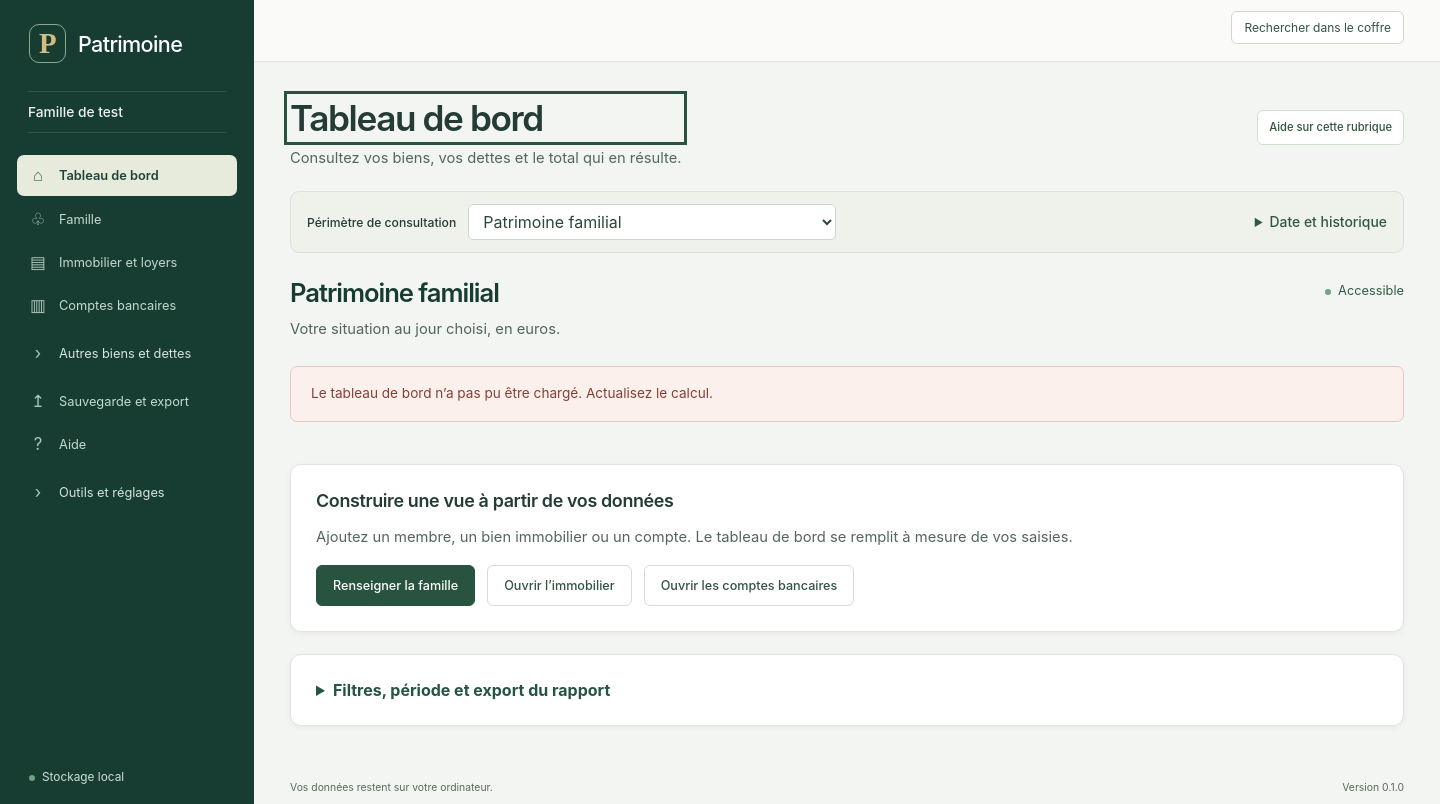
it: Paramètres locaux › enregistre les valeurs saisies avec la devise de consolidation toujours en EUR
The width and height of the screenshot is (1440, 804).
Expected: the text "Famille de test" is shown, left=28, top=104, right=123, bottom=120
Click the button "› Outils et réglages" at (127, 492), box left=17, top=472, right=237, bottom=512
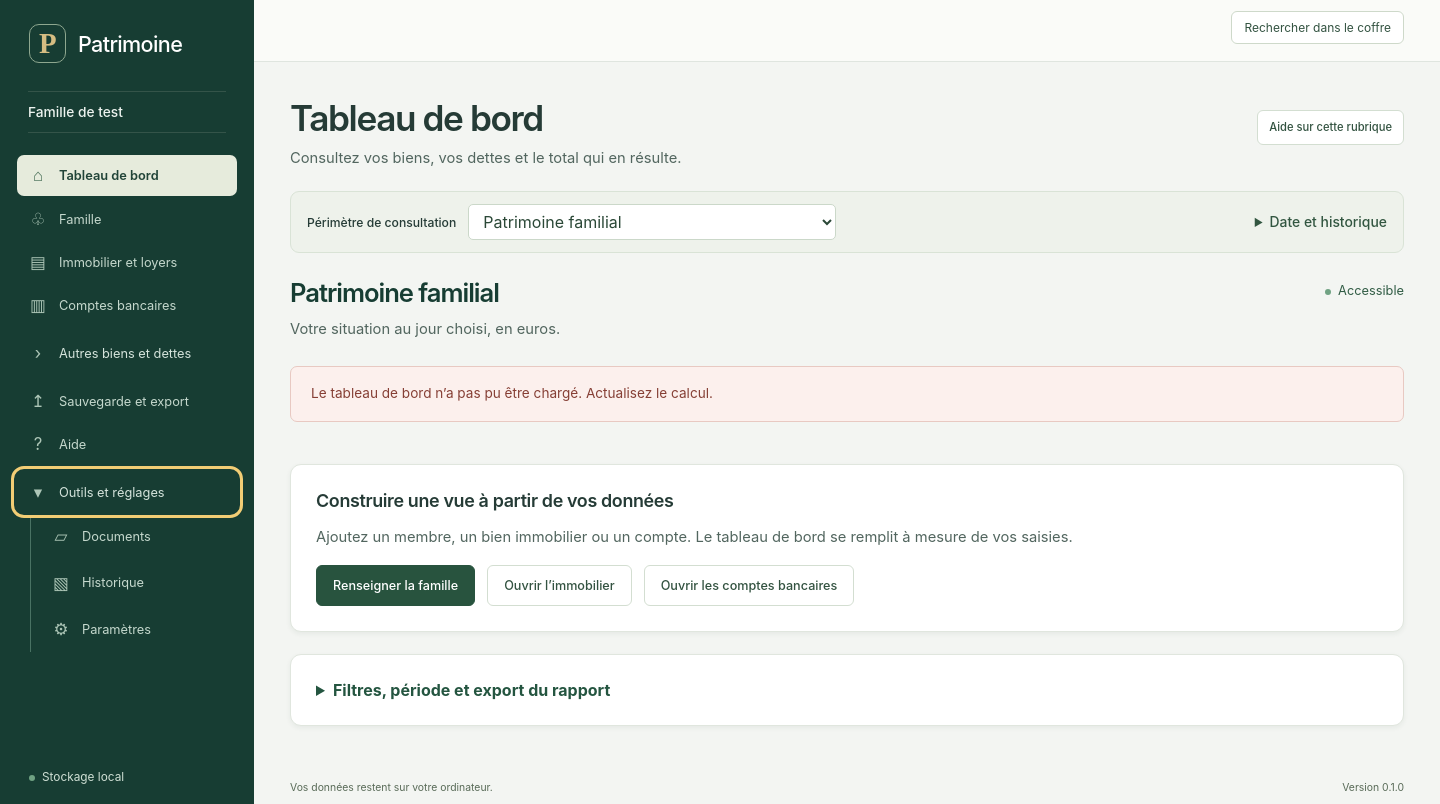
Click the button "⚙ Paramètres" at (138, 630), box left=40, top=608, right=237, bottom=652
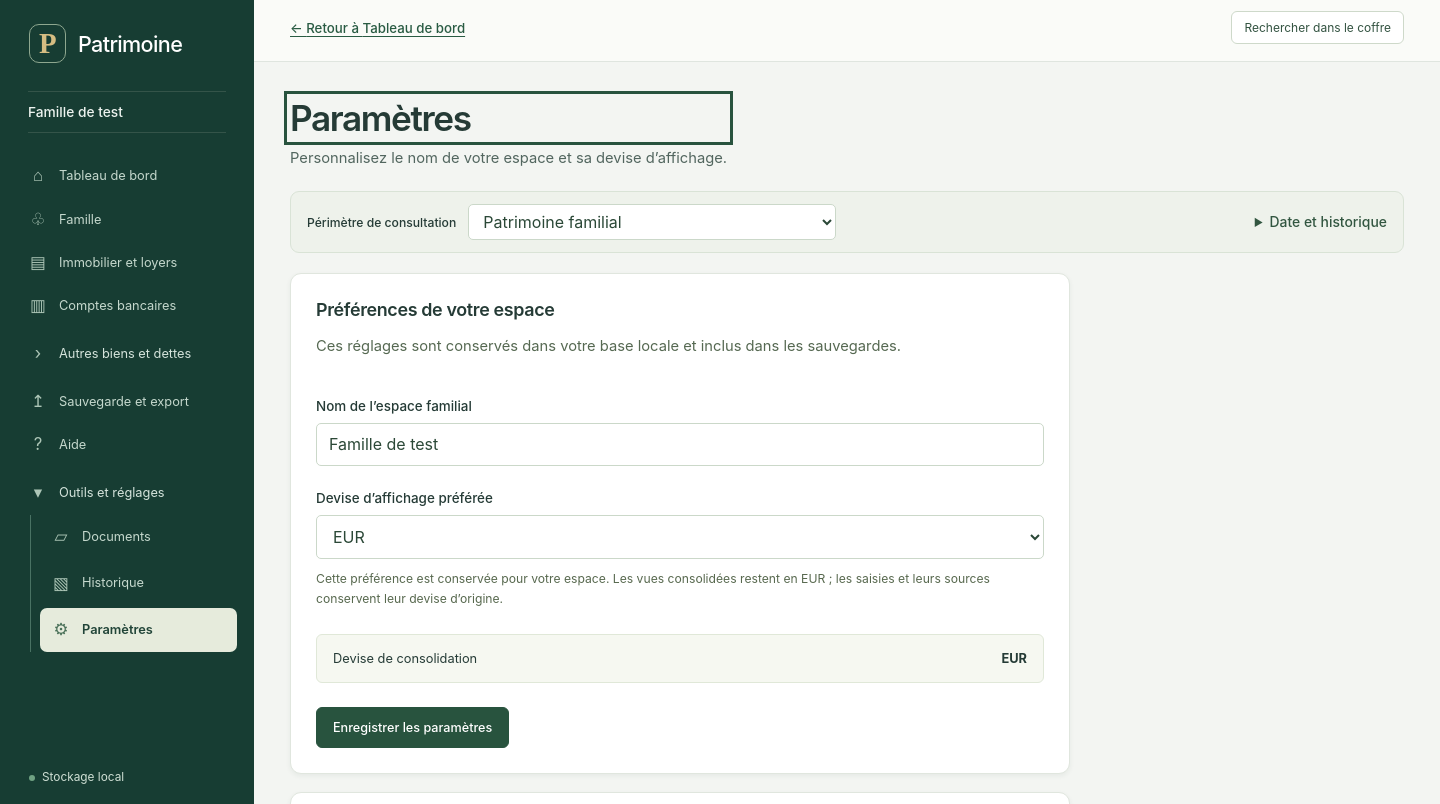
Replace the text in the field labelled "Nom de l’espace familial" with "  Notre espace  " at (680, 444), box left=316, top=423, right=1044, bottom=466
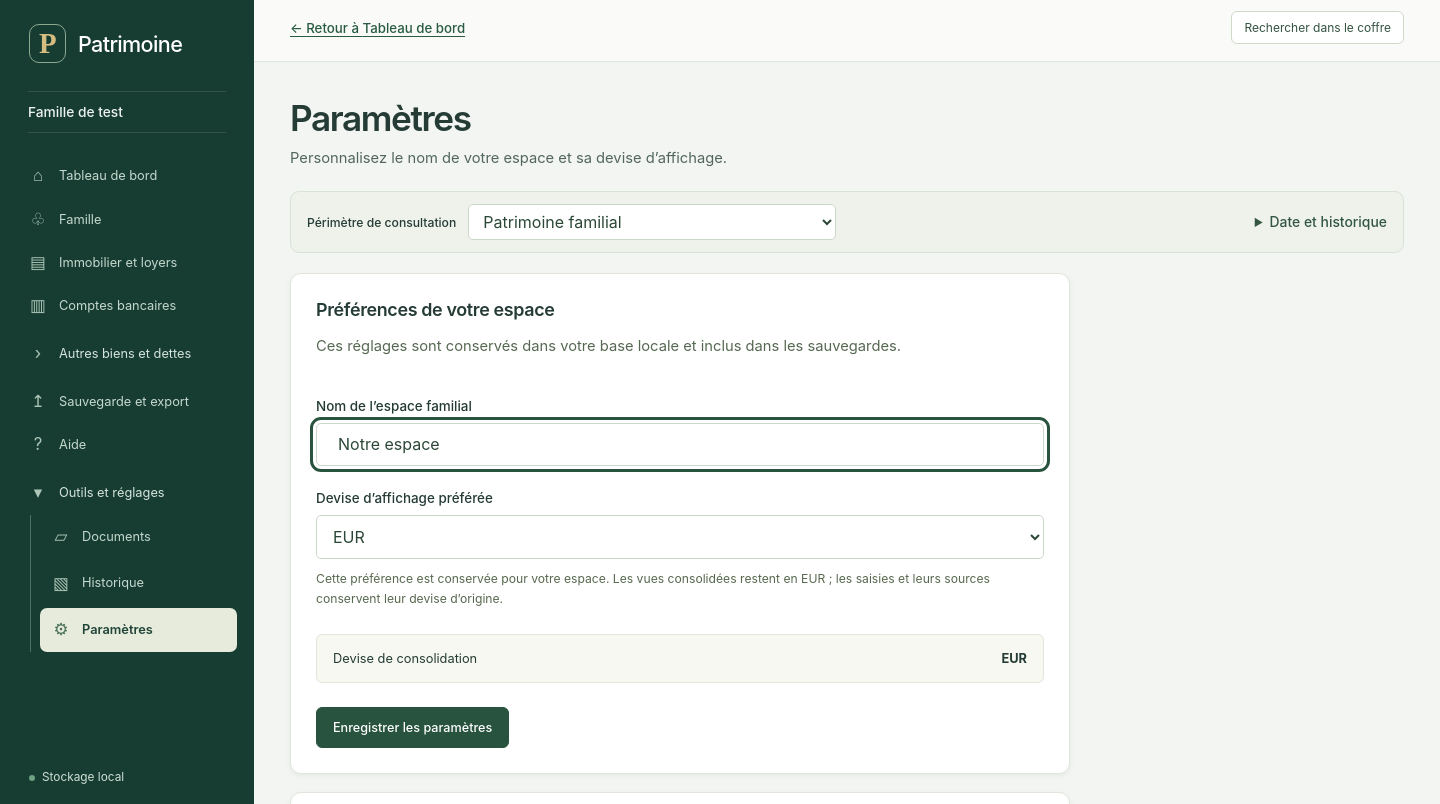
Select "TND" in the dropdown labelled "Devise d’affichage préférée" at (680, 537), box left=316, top=515, right=1044, bottom=559
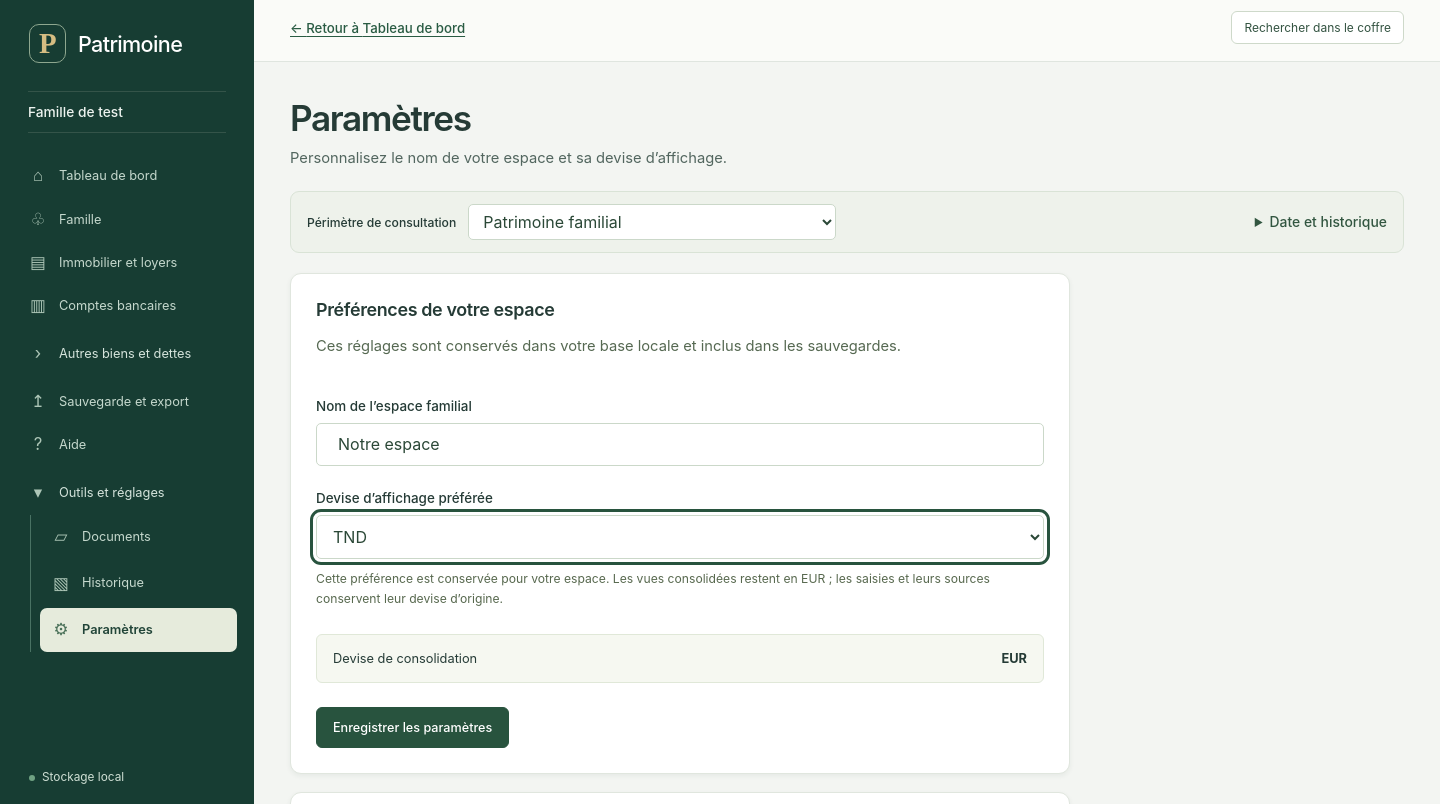
Click the button "Enregistrer les paramètres" at (413, 728), box left=316, top=707, right=509, bottom=748
(page scrolled)
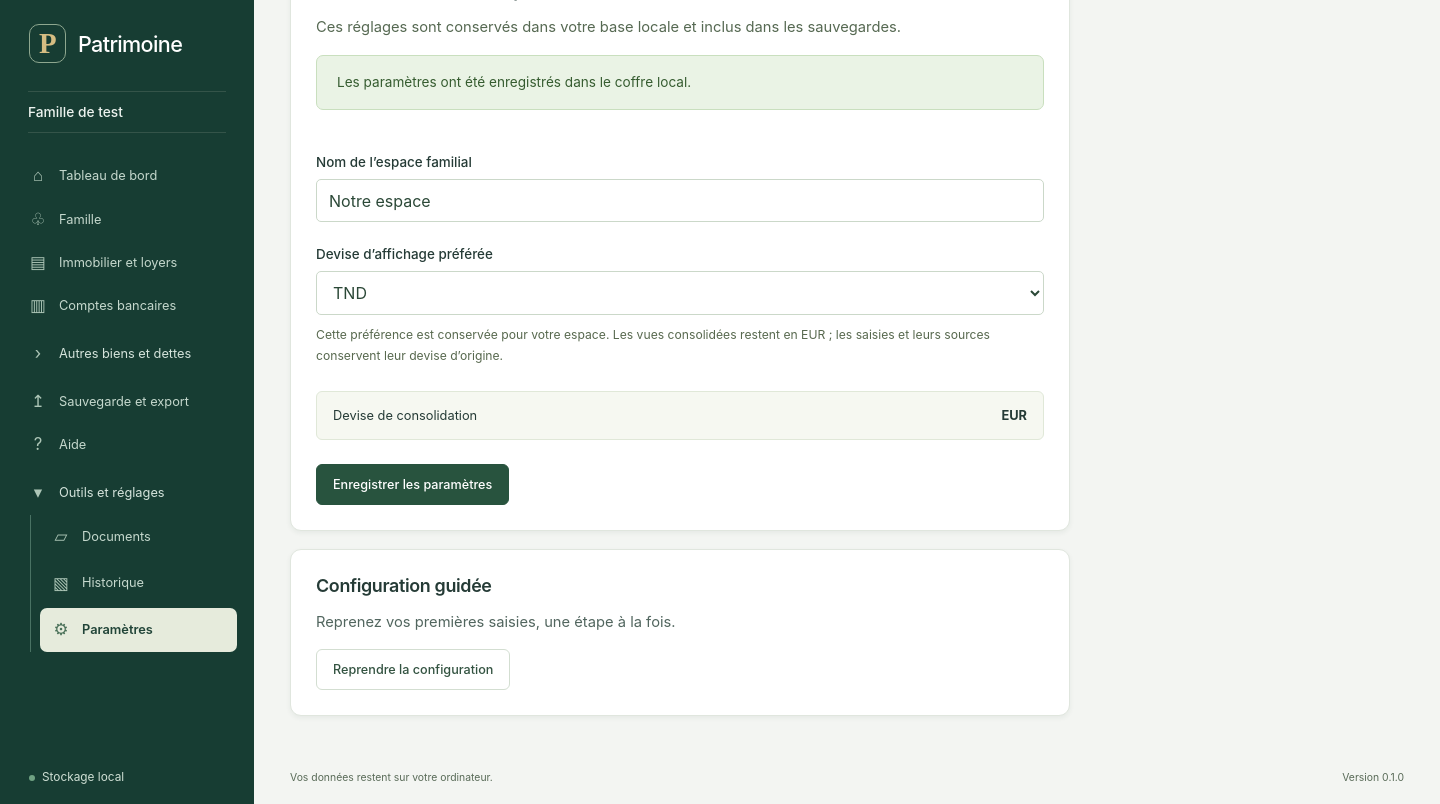
Expected: the text "EUR" is shown, left=1002, top=408, right=1027, bottom=423
Expected: the text "Les paramètres ont été enregistrés dans le coffre local." is shown, left=316, top=54, right=1044, bottom=110
